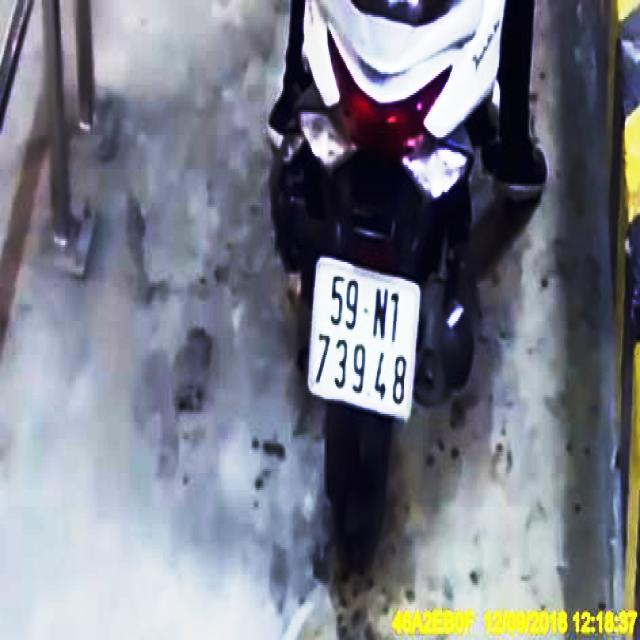license_plate: (308, 260, 422, 421)
